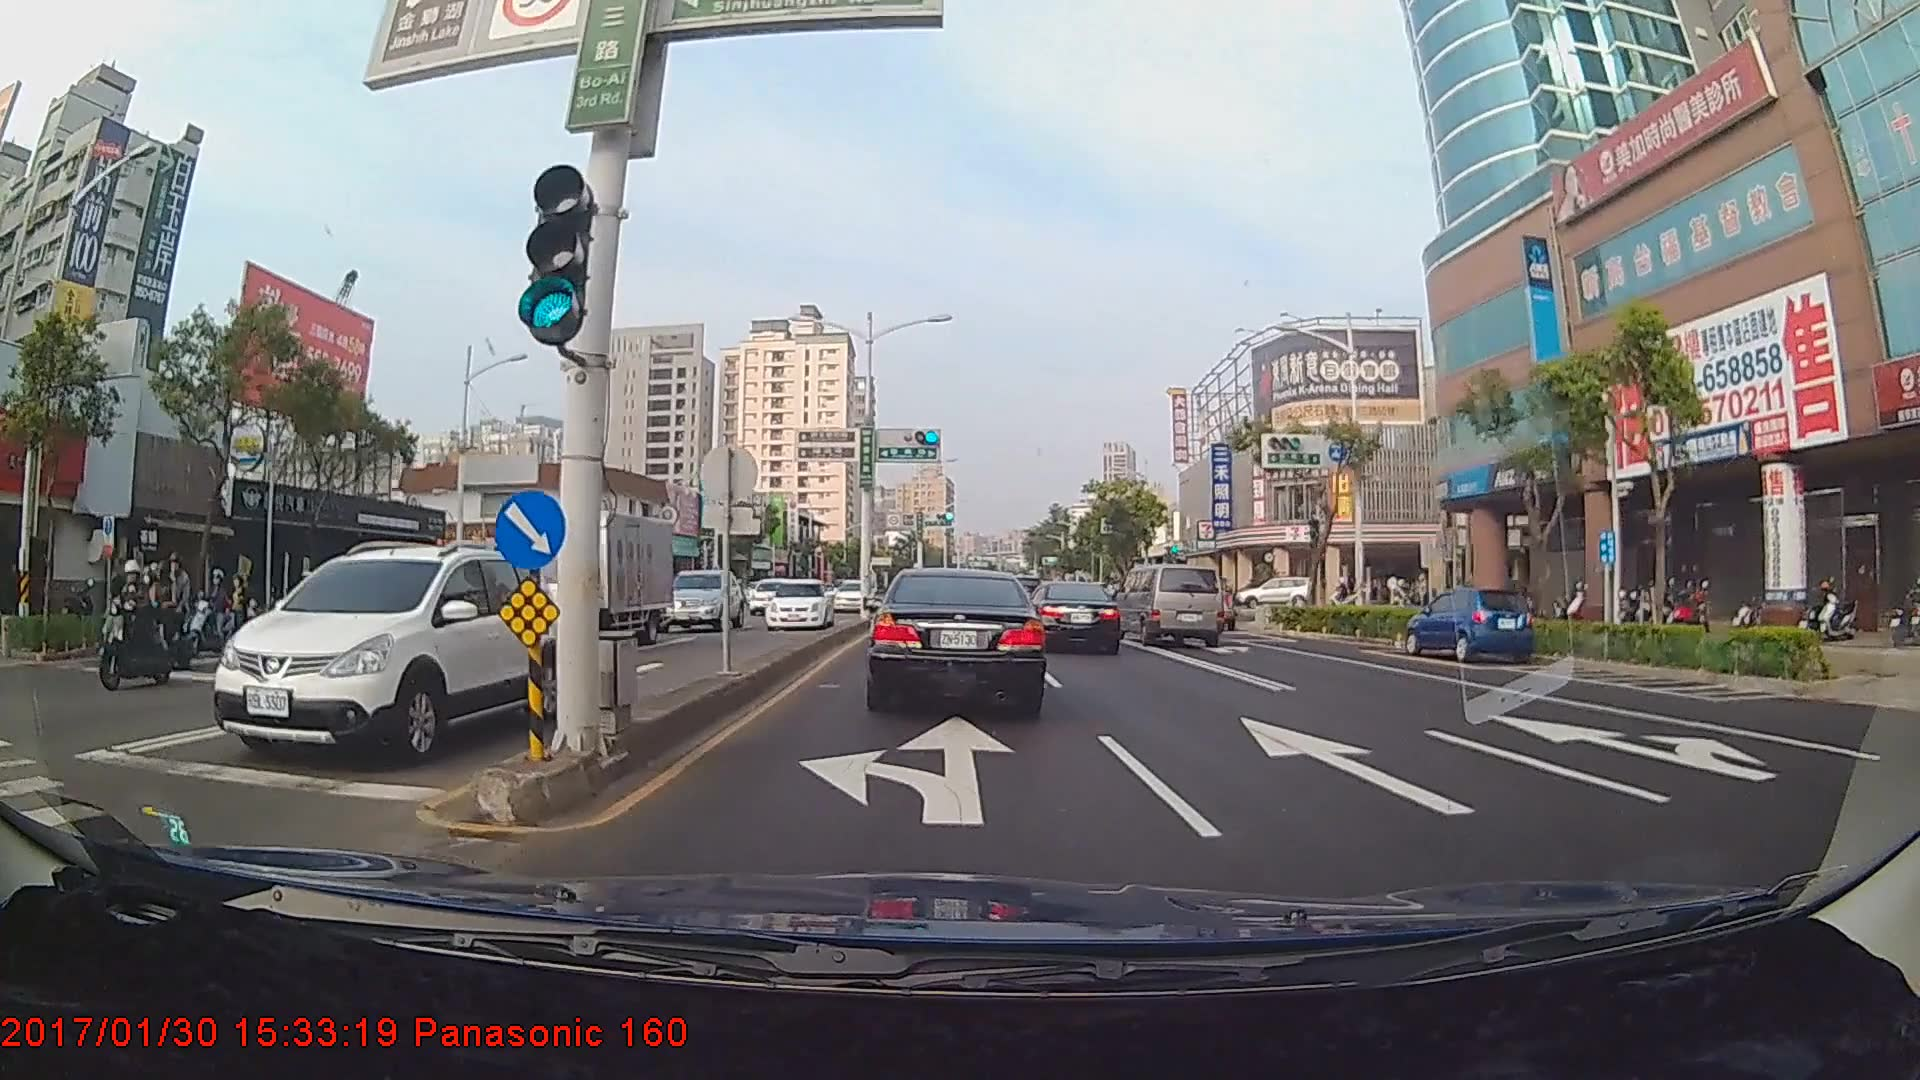rider: (91, 559, 181, 702), (125, 551, 211, 670)
vehicle: (227, 543, 545, 762), (871, 563, 1045, 712), (507, 510, 673, 658), (1402, 583, 1535, 664), (1118, 565, 1224, 648), (1027, 580, 1122, 654), (653, 567, 741, 635), (765, 574, 831, 631), (1238, 577, 1299, 609), (746, 579, 793, 615), (831, 576, 867, 616)
